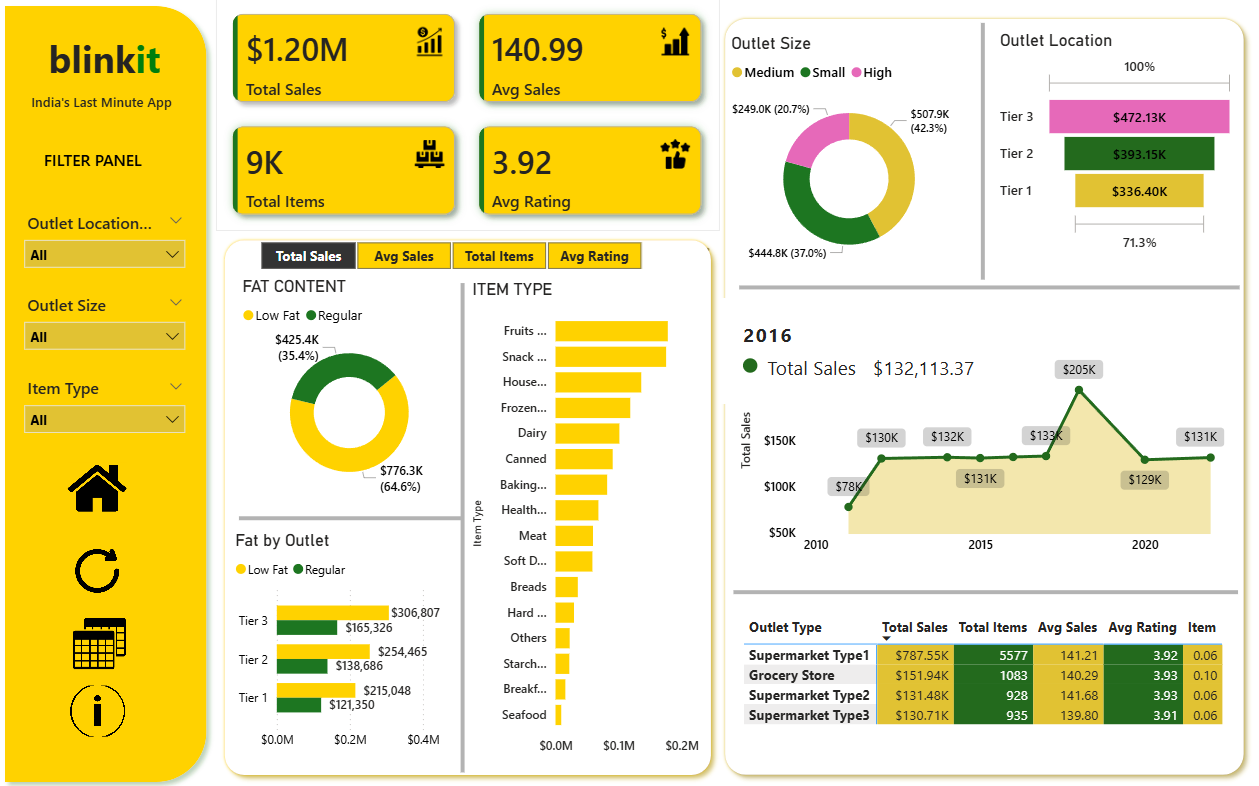

What the dashboard file says about the page in this screenshot:
{"tool":"powerbi","page":{"name":"Dashboard","canvas":[1280,800],"ordinal":0},"visuals":[{"type":"shape","box":[0,0,221.1,800.2],"z":0,"group":"g2"},{"type":"cardVisual","fields":{"Data":["BlinkIT Grocery Data.Total Sales","BlinkIT Grocery Data.Avg Sales","BlinkIT Grocery Data.Total Items","BlinkIT Grocery Data.Avg Rating"]},"box":[221.9,0,507.8,236.8],"z":0},{"type":"shape","box":[725.8,13,540.6,779.8],"z":0,"group":"g3"},{"type":"shape","box":[221.9,236.8,507.8,556.9],"z":0,"group":"g1"},{"type":"donutChart","title":"Outlet Size","fields":{"Category":["BlinkIT Grocery Data.Outlet Size"],"Y":["BlinkIT Grocery Data.Total Sales"]},"box":[735.3,36.5,247.8,245.8],"z":1000,"group":"g3"},{"type":"textbox","box":[31,91.5,190.5,42.8],"z":1000,"group":"g2"},{"type":"group","id":"g1","title":"Group 1","box":[221.9,236.8,507.8,556.9],"z":1000},{"type":"slicer","fields":{"Values":["Parameter.Parameter"]},"box":[241.8,241.6,432.4,37.7],"z":1000,"group":"g1"},{"type":"group","id":"g2","title":"Group 2","box":[0,0,221.5,800.3],"z":2000},{"type":"textbox","box":[47.3,32.5,131.4,59.1],"z":2000,"group":"g2"},{"type":"funnel","title":"Outlet Location","fields":{"Category":["BlinkIT Grocery Data.Outlet Location Type"],"Y":["BlinkIT Grocery Data.Total Sales"]},"box":[1006.3,33.6,246.4,229.7],"z":2000,"group":"g3"},{"type":"donutChart","title":"FAT CONTENT","fields":{"Y":["BlinkIT Grocery Data.Total Sales"],"Category":["BlinkIT Grocery Data.Item Fat Content"]},"box":[243.6,281.4,225.6,227.2],"z":2000,"group":"g1"},{"type":"lineChart","title":"Outlet Establishment ","fields":{"Y":["BlinkIT Grocery Data.Total Sales"],"Category":["BlinkIT Grocery Data.Outlet Establishment Year"]},"box":[745.5,320.4,497.1,250.2],"z":3000,"group":"g3"},{"type":"actionButton","box":[72.4,469.6,59.1,51.7],"z":3000},{"type":"clusteredBarChart","title":"Fat by Outlet","fields":{"Y":["BlinkIT Grocery Data.Total Sales"],"Series":["BlinkIT Grocery Data.Item Fat Content"],"Category":["BlinkIT Grocery Data.Outlet Location Type"]},"box":[236,537.9,233.3,230.1],"z":3000,"group":"g1"},{"type":"barChart","title":"ITEM TYPE","fields":{"Y":["BlinkIT Grocery Data.Total Sales"],"Category":["BlinkIT Grocery Data.Item Type"]},"box":[475.4,284.3,237.9,489.5],"z":4000,"group":"g1"},{"type":"actionButton","box":[72.4,552.2,59.1,53.2],"z":4000},{"type":"pivotTable","title":"Outlet Type","fields":{"Rows":["BlinkIT Grocery Data.Outlet Type"],"Values":["BlinkIT Grocery Data.Total Sales","BlinkIT Grocery Data.Total Items","BlinkIT Grocery Data.Avg Sales","BlinkIT Grocery Data.Avg Rating","Avg(BlinkIT Grocery Data.Item Visibility)"]},"box":[748.4,618.8,502.9,152.2],"z":4000,"group":"g3"},{"type":"shape","box":[748.4,286.7,504.4,11.7],"z":5000,"group":"g3"},{"type":"actionButton","box":[73.8,626.1,60.5,51.7],"z":5000},{"type":"shape","box":[742.6,595.4,508.7,8.8],"z":6000,"group":"g3"},{"type":"actionButton","box":[72.4,694,60.5,51.7],"z":6000},{"type":"shape","box":[987.5,26.3,13,259],"z":7000,"group":"g3"},{"type":"shape","box":[463.7,287.9,13.3,493.2],"z":7000},{"type":"shape","box":[245.1,516.8,225.9,16.2],"z":8000},{"type":"group","id":"g3","title":"Group 3","box":[725.8,13,540.4,779.4],"z":9000},{"type":"slicer","fields":{"Values":["BlinkIT Grocery Data.Outlet Location Type"]},"box":[19.2,211.2,181.6,67.9],"z":10000,"group":"g2"},{"type":"slicer","fields":{"Values":["BlinkIT Grocery Data.Outlet Size"]},"box":[19.2,293.8,181.6,67.9],"z":11000,"group":"g2"},{"type":"slicer","fields":{"Values":["BlinkIT Grocery Data.Item Type"]},"box":[19.2,378,181.6,66.4],"z":12000,"group":"g2"},{"type":"textbox","box":[42.8,147.7,134.4,42.8],"z":13000,"group":"g2"}]}

Visuals, with their boxes in screenshot pixels (x1, y1, x2, y2), scaled from the page's 1280x800 canvas onto the 1259x786 screenshot:
shape: 0/0/217/785
cardVisual - BlinkIT Grocery Data.Total Sales x BlinkIT Grocery Data.Avg Sales: 218/0/718/233
shape: 714/13/1246/779
shape: 218/233/718/780
"Outlet Size" donutChart: 723/36/967/277
textbox: 30/90/218/132
"Group 1" group: 218/233/718/780
slicer - Parameter.Parameter: 238/237/663/274
"Group 2" group: 0/0/218/785
textbox: 47/32/176/90
"Outlet Location" funnel: 990/33/1232/259
"FAT CONTENT" donutChart: 240/276/462/500
"Outlet Establishment " lineChart: 733/315/1222/561
actionButton: 71/461/129/512
"Fat by Outlet" clusteredBarChart: 232/528/462/755
"ITEM TYPE" barChart: 468/279/702/760
actionButton: 71/543/129/595
"Outlet Type" pivotTable: 736/608/1231/758
shape: 736/282/1232/293
actionButton: 73/615/132/666
shape: 730/585/1231/594
actionButton: 71/682/131/733
shape: 971/26/984/280
shape: 456/283/469/767
shape: 241/508/463/524
"Group 3" group: 714/13/1245/779
slicer - BlinkIT Grocery Data.Outlet Location Type: 19/208/198/274
slicer - BlinkIT Grocery Data.Outlet Size: 19/289/198/355
slicer - BlinkIT Grocery Data.Item Type: 19/371/198/437
textbox: 42/145/174/187
